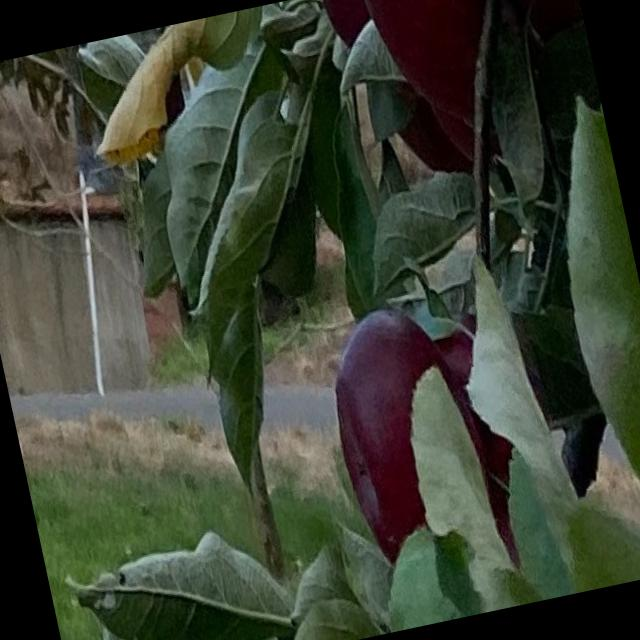Apples: (313, 296, 500, 568), (363, 0, 518, 146)
